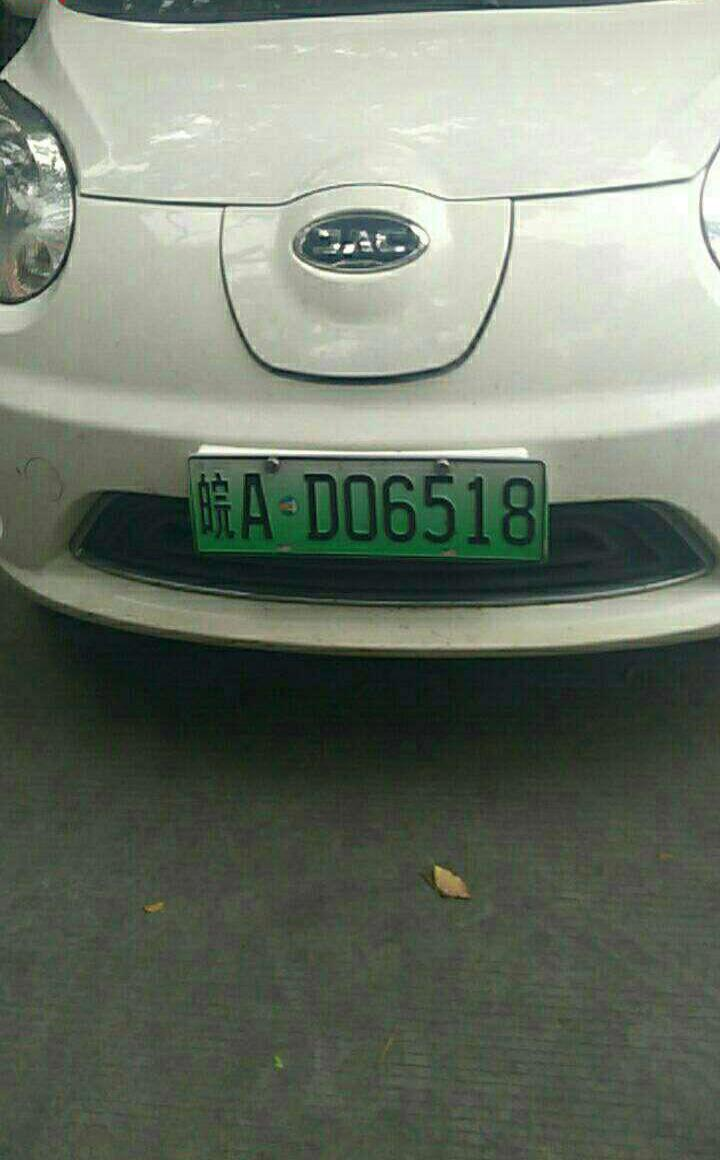car_green: (185, 446, 551, 569)
